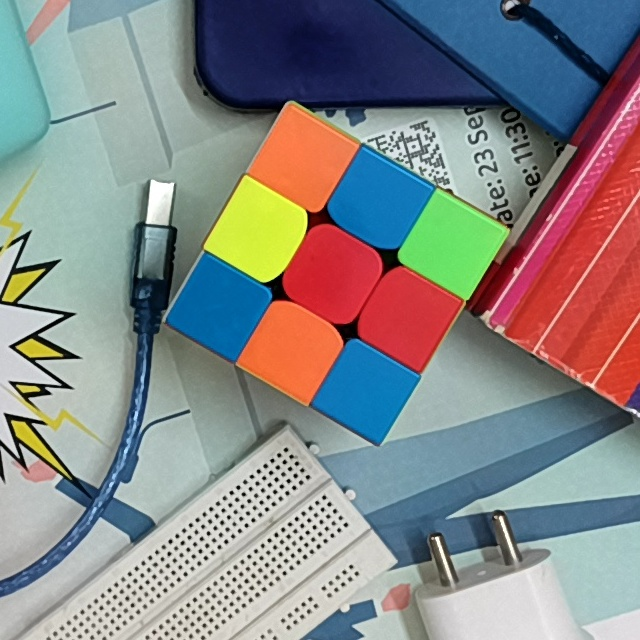tile: (301, 244, 362, 302), (348, 172, 406, 232), (274, 131, 331, 189), (421, 217, 480, 273), (191, 277, 250, 333), (229, 204, 284, 262), (379, 289, 435, 344), (338, 364, 394, 419), (263, 324, 320, 377)
